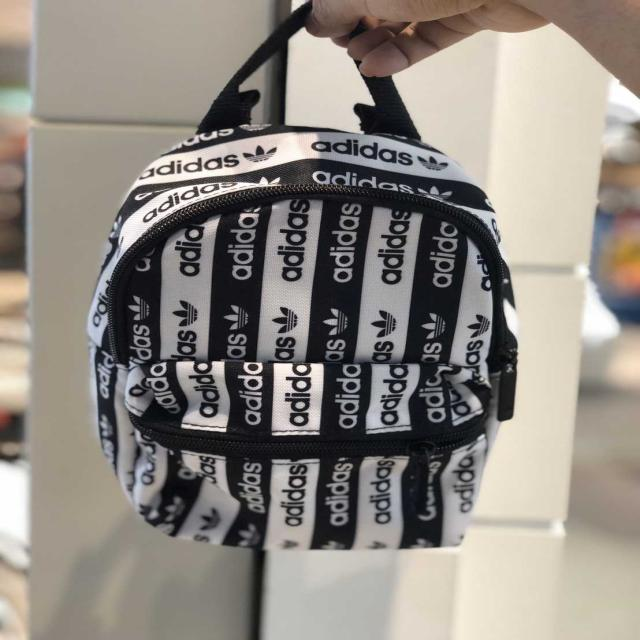Handbag: (92, 121, 522, 555)
